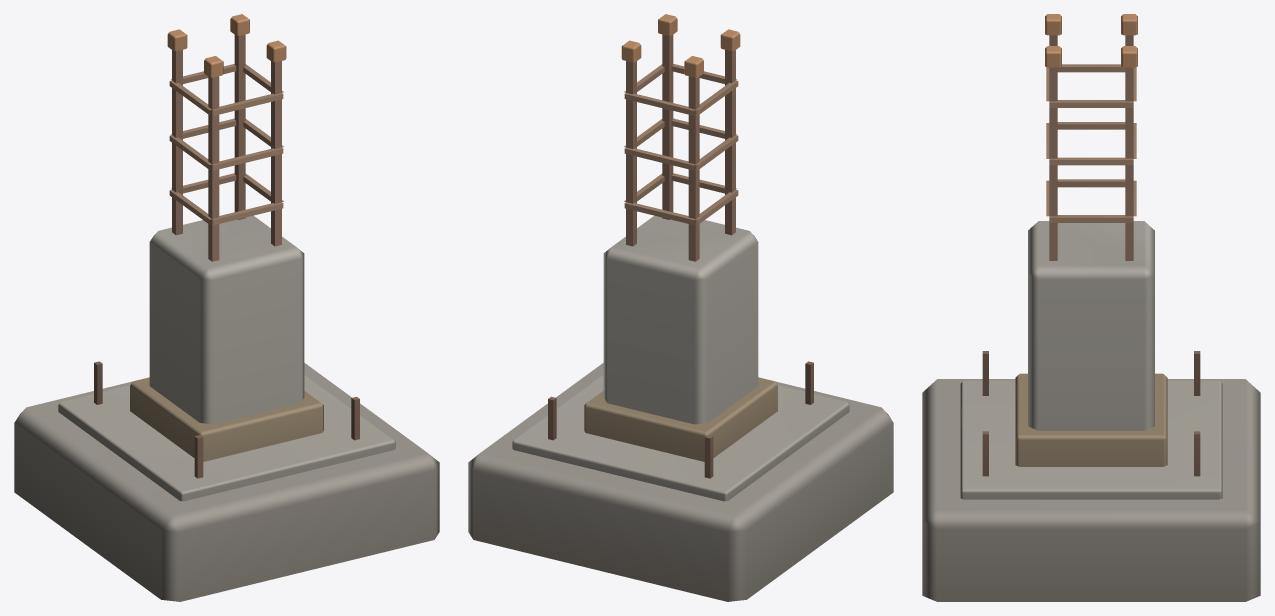
The model's file is starter.glb.
3 views of the same model, side by side, from view 1: azimuth 30°, elevation 25°; view 2: azimuth 150°, elevation 25°; view 3: azimuth 270°, elevation 25° (orthographic). The views are drawn at different scales.
Bounding box in the file's own units: 1.6 × 2.6 × 1.6.
